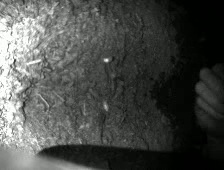corn: (103, 56, 112, 63), (103, 101, 109, 111)
